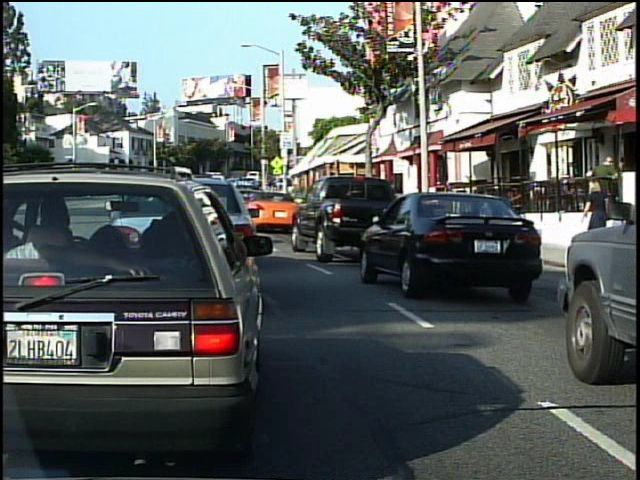person: (583, 175, 619, 260), (588, 149, 623, 235)
